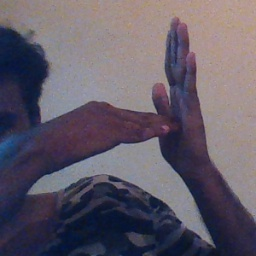Z: (99, 15, 207, 175)
